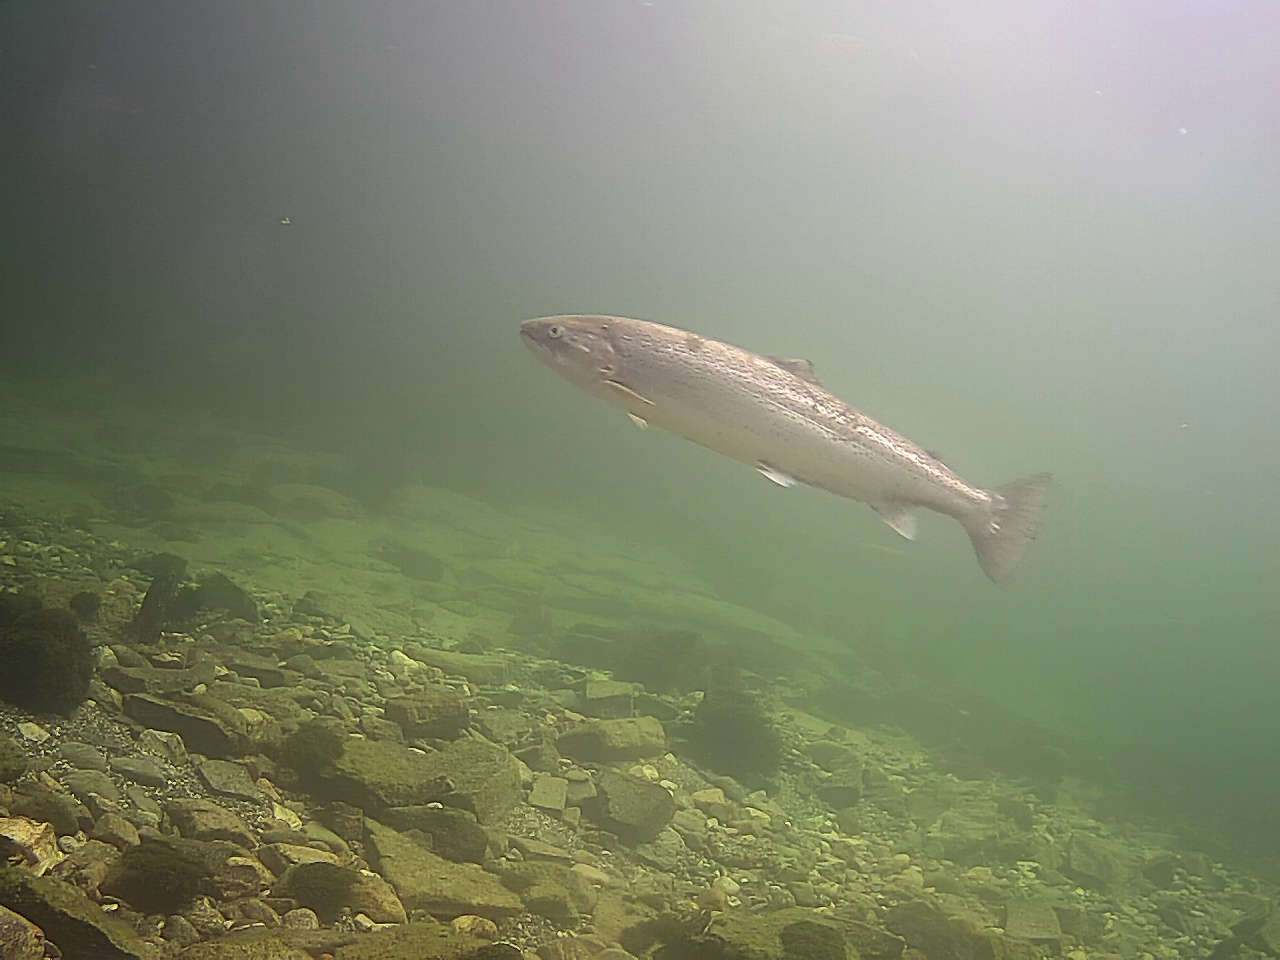salmon: (519, 312, 1055, 586)
